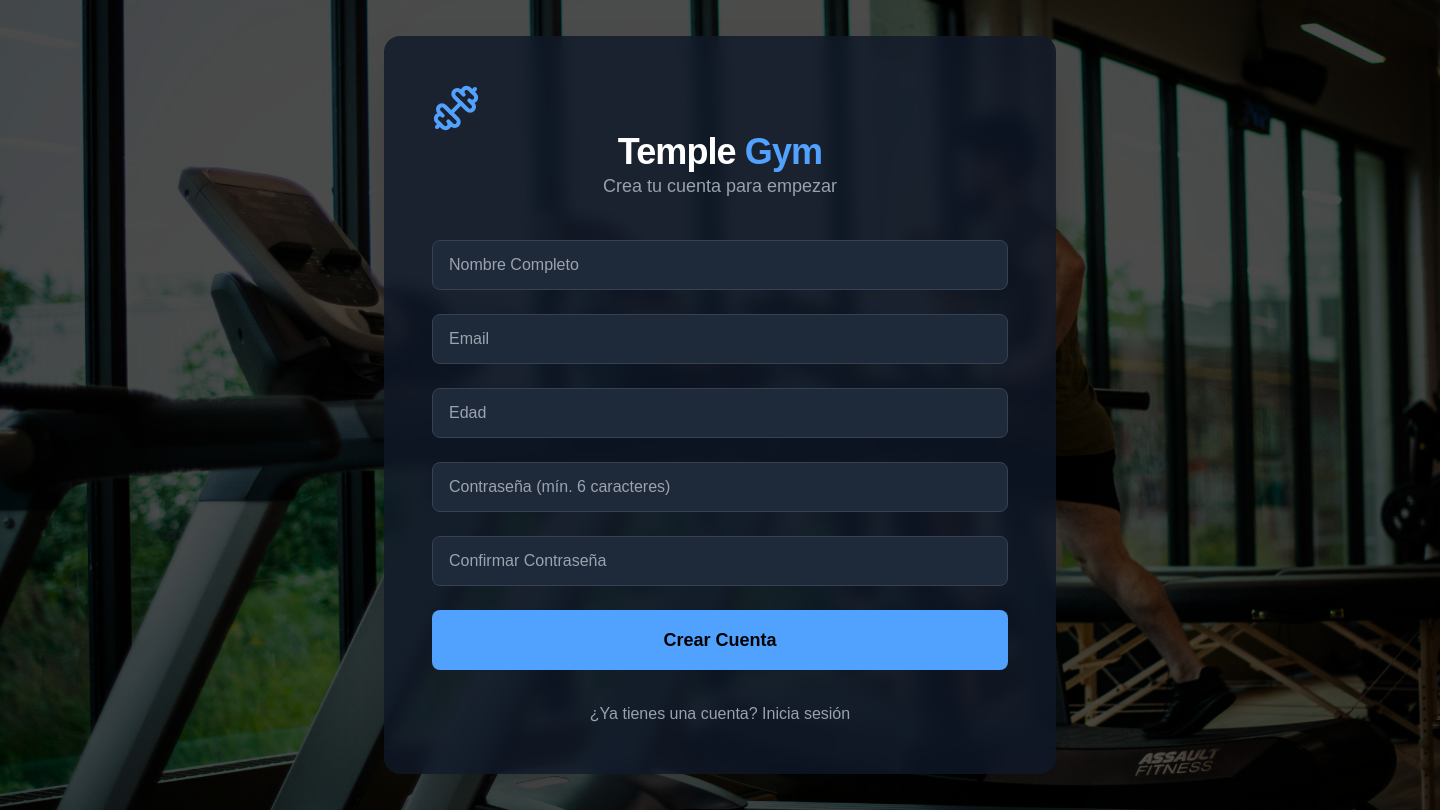
RegisterForm › Validation Logic › should show error when any field is empty
Click the button "Crear Cuenta".
click(720, 640)  # box top-left (432, 610), bottom-right (1008, 670)
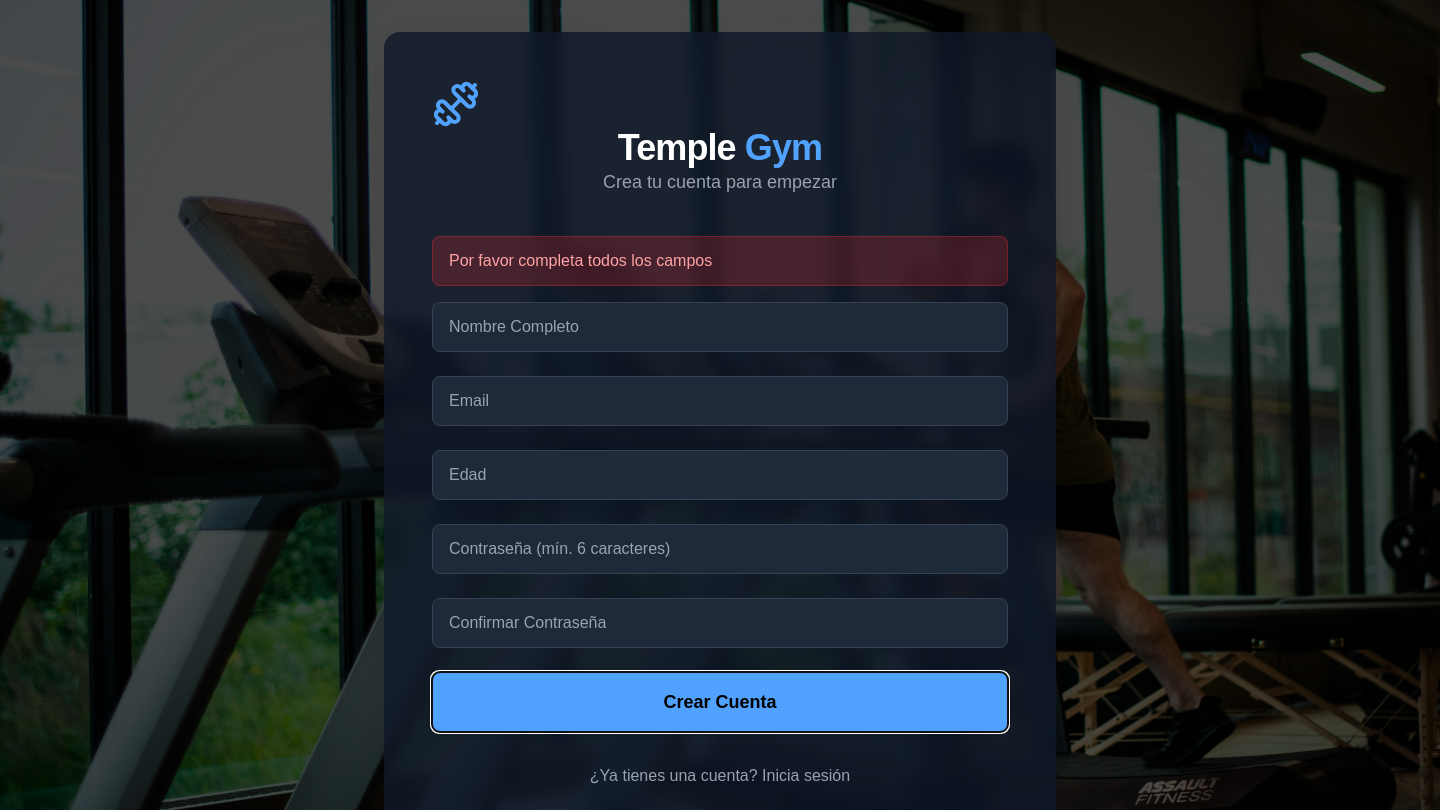
Result: the text "Por favor completa todos los campos" is shown at top-left (432, 236), bottom-right (1008, 286)
